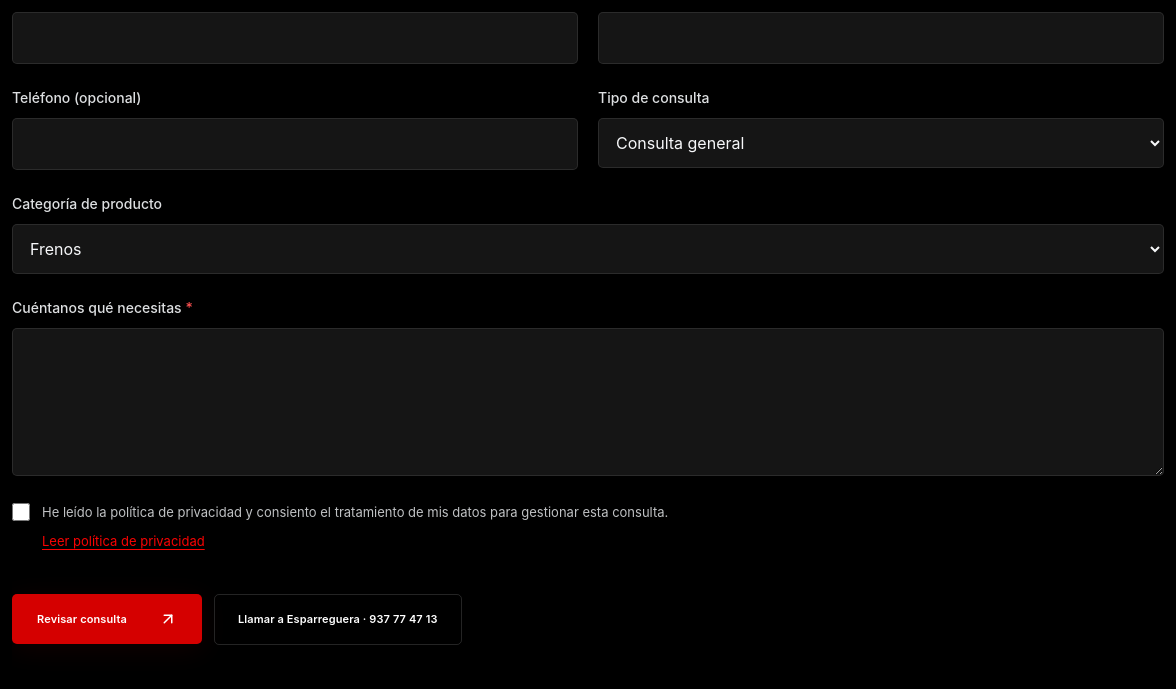
Formularios accesibles › preselecciona la categoría recibida y anuncia errores
The image size is (1176, 689).
(page scrolled)
Expected: the dropdown labelled "Categoría de producto" shows "Frenos", top-left (12, 224), bottom-right (1164, 274)
Click the button "Revisar consulta" at (107, 619), box top-left (12, 594), bottom-right (202, 644)
(page scrolled)
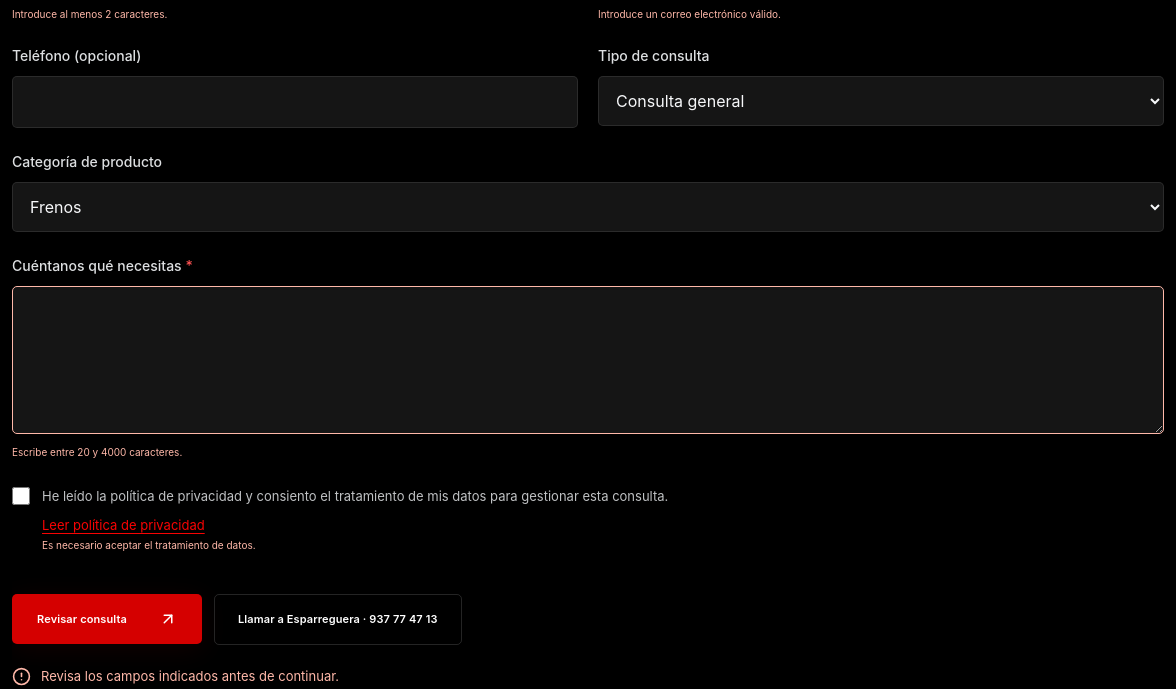
Expected: the text "Introduce un correo electrónico válido." is shown, top-left (598, 8), bottom-right (781, 20)
Expected: the message shows "Revisa los campos indicados", top-left (41, 668), bottom-right (339, 684)
